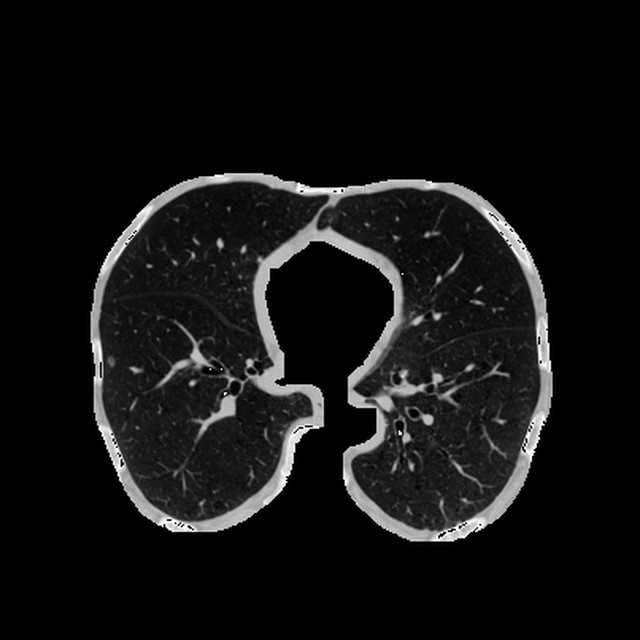PN: (106, 356, 116, 365)
